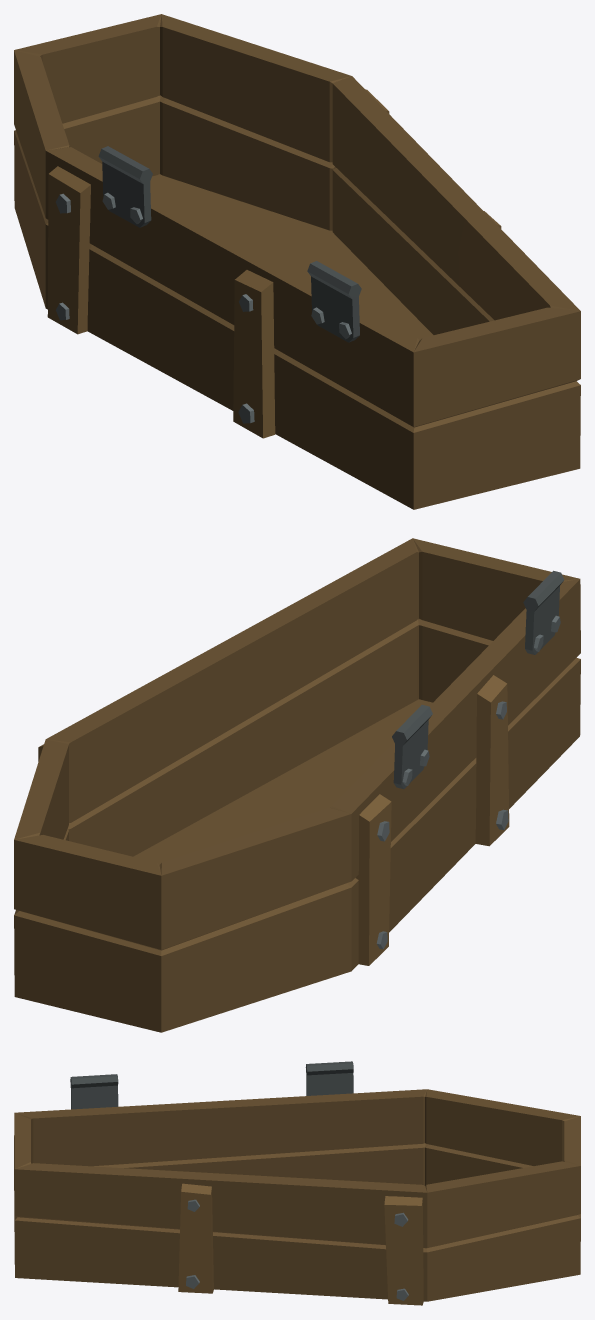
File: SM_CoffinBottom.fbx
The picture shows the model from 3 angles, top to bottom: view 1: azimuth 30°, elevation 25°; view 2: azimuth 150°, elevation 25°; view 3: azimuth 270°, elevation 25°; orthographic projection. The views are drawn at different scales.
Visible parts, largest first — view 1: Wooden_Coffin_B; view 2: Wooden_Coffin_B; view 3: Wooden_Coffin_B.
Part boxes in pixels (bbox=[...]): Wooden_Coffin_B: bbox=[14, 14, 580, 509]; Wooden_Coffin_B: bbox=[14, 538, 580, 1032]; Wooden_Coffin_B: bbox=[14, 1061, 580, 1305].
Bounding box in the file's own units: 74.03 × 42.72 × 159.
Materials: 1 (1 with a texture image).
